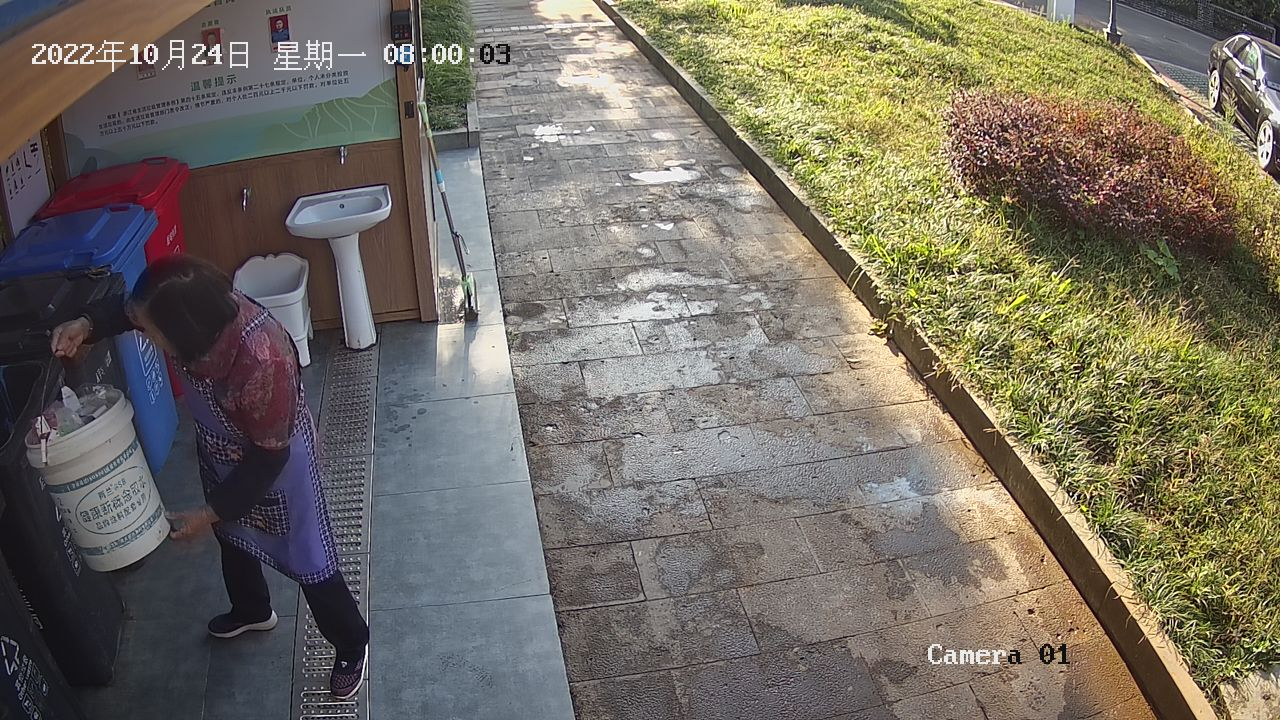person: (41, 252, 374, 706)
youtong: (18, 341, 179, 577)
